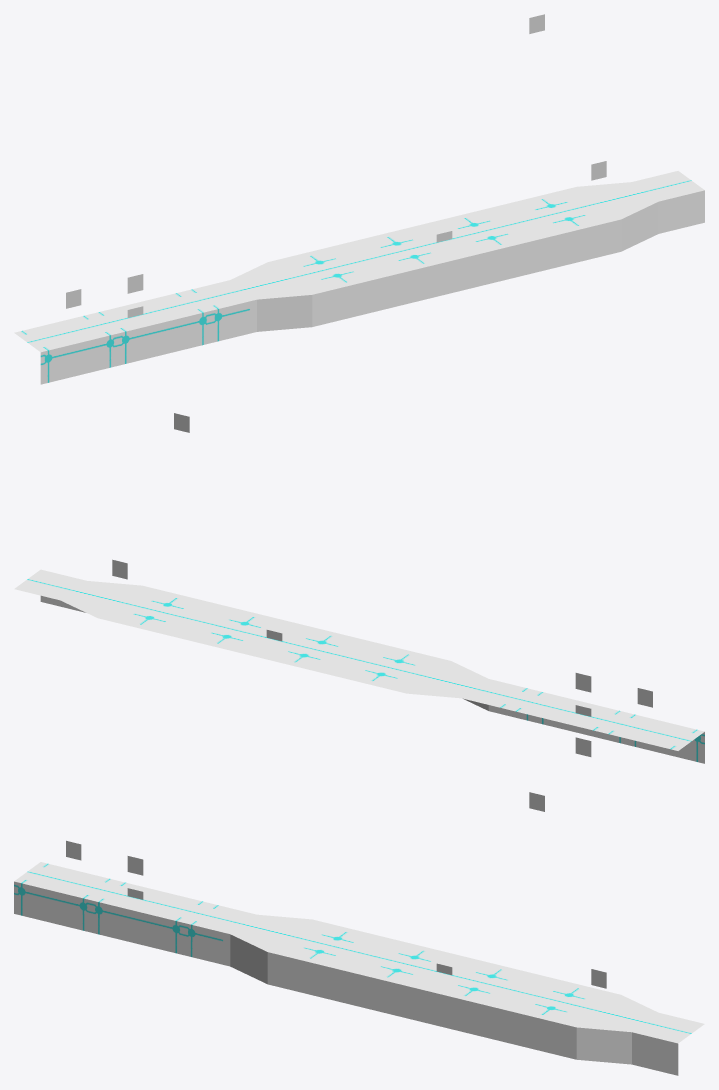
The model's file is Stage1-3.FBX.
3 views of the same model, one above another, from view 1: azimuth 30°, elevation 25°; view 2: azimuth 150°, elevation 25°; view 3: azimuth 330°, elevation 25° (orthographic).
Parts seen in each view (by area): view 1: stage1, stage2; view 2: stage1, stage2; view 3: stage1, stage2.
Part boxes in pixels (x1,y1,x2,y2): stage1: (14, 182, 658, 384); stage2: (632, 171, 704, 233); stage1: (60, 581, 704, 763); stage2: (14, 569, 86, 612); stage1: (14, 862, 658, 1064); stage2: (632, 1012, 704, 1075).
Size of the model in its own units: 4300 by 1500 by 500.
Materials: 1 (1 with a texture image).
